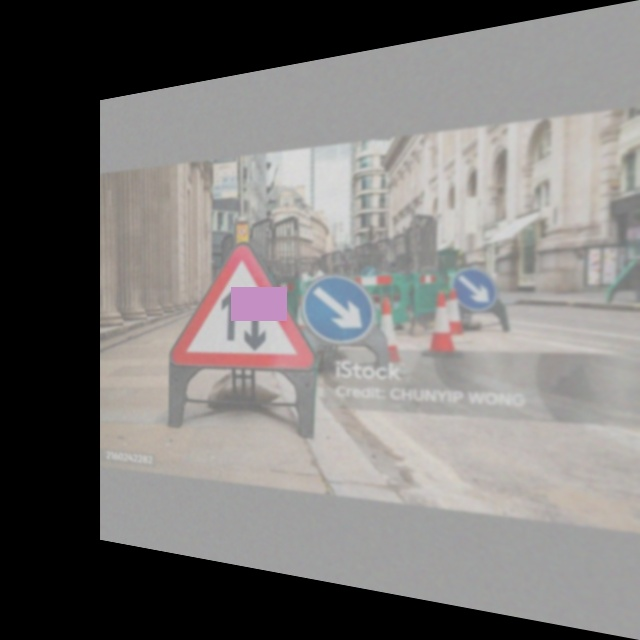Mandatory_Two_Way_Traffic: (177, 236, 312, 375)
